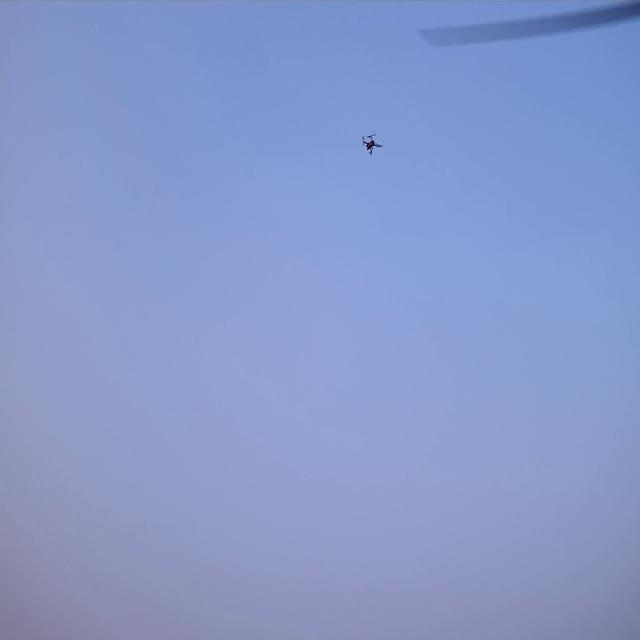UAV: (363, 135, 380, 155)
